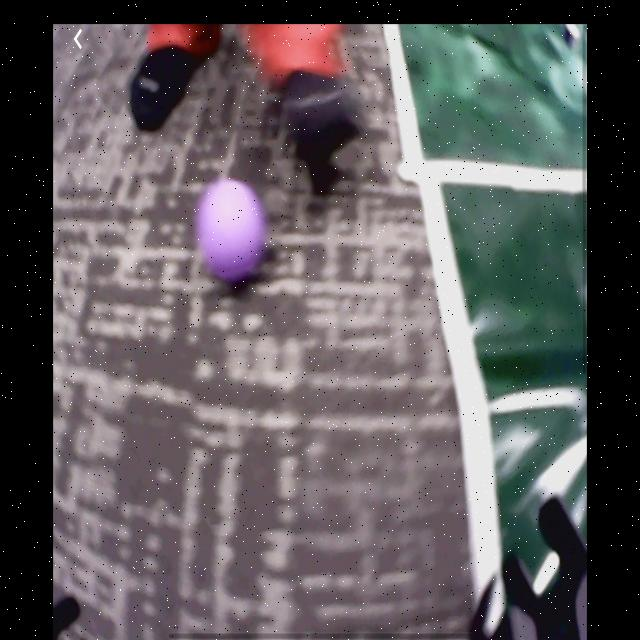ball: (194, 178, 268, 285)
